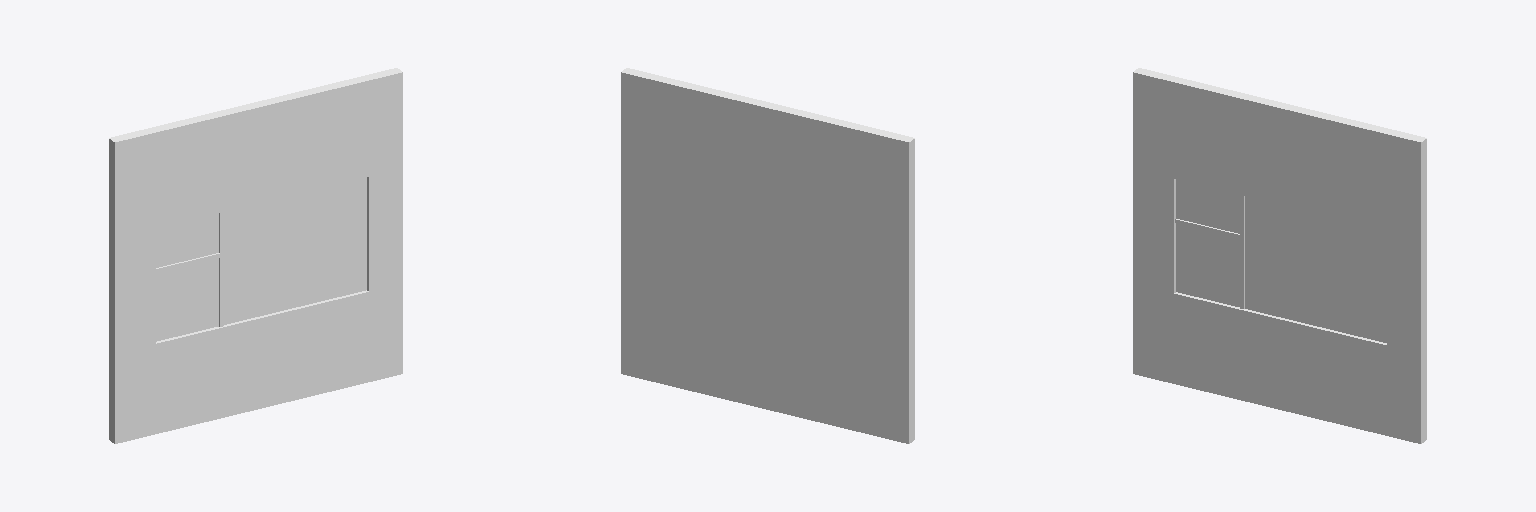
Rendered from wallWithWindow2-2-lod1.obj.
3 renders of one model, left to right at view 1: azimuth 30°, elevation 25°; view 2: azimuth 150°, elevation 25°; view 3: azimuth 330°, elevation 25°, orthographic.
Visible parts, largest first — view 1: lod1; view 2: lod1; view 3: lod1.
Boxes of the visible parts, <box> form: lod1: <box>109,68,402,443</box>; lod1: <box>621,68,914,443</box>; lod1: <box>1133,68,1426,443</box>.
Bounding box in the file's own units: 16 × 16 × 0.6.